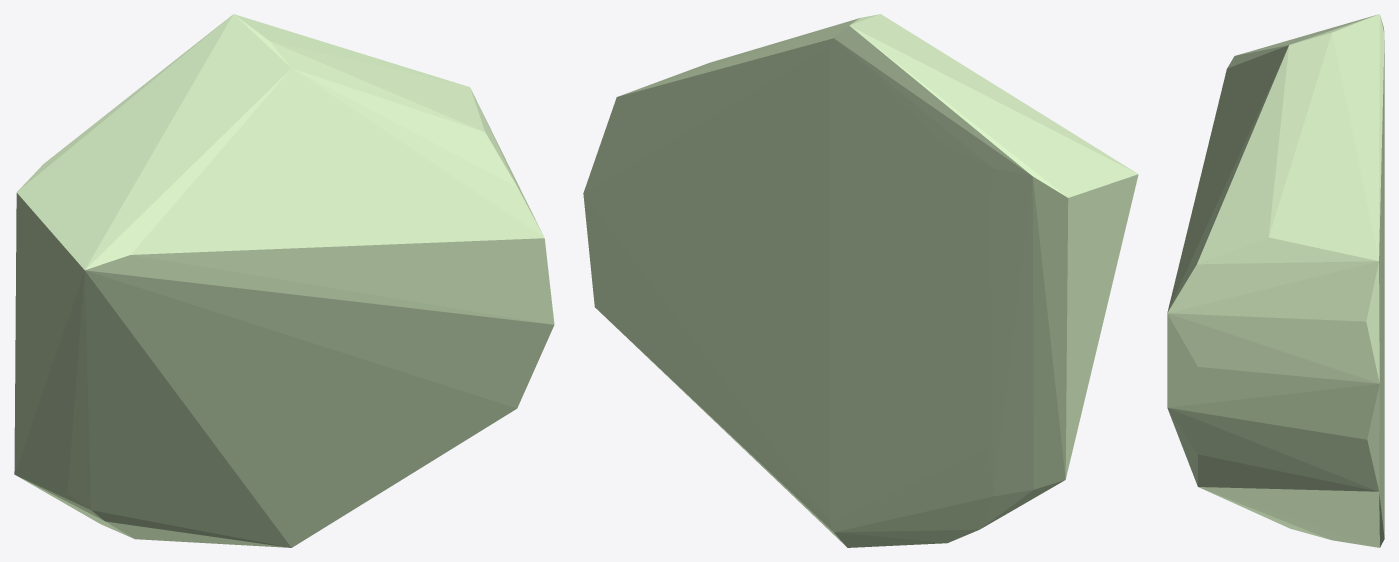
Rendered from kuka_URDF_robot_base_coll_8.dae.
3 views of the same model, side by side, from view 1: azimuth 30°, elevation 25°; view 2: azimuth 150°, elevation 25°; view 3: azimuth 270°, elevation 25° (orthographic).
Parts seen in each view (by area): view 1: Node_0000020FCC592AD0; view 2: Node_0000020FCC592AD0; view 3: Node_0000020FCC592AD0.
Boxes of the visible parts, x1,y1,x2,y2 form: Node_0000020FCC592AD0: [14, 14, 554, 547]; Node_0000020FCC592AD0: [583, 14, 1138, 547]; Node_0000020FCC592AD0: [1167, 14, 1384, 547].
Size of the model in its own units: 0.2363 by 0.2438 by 0.0901.
